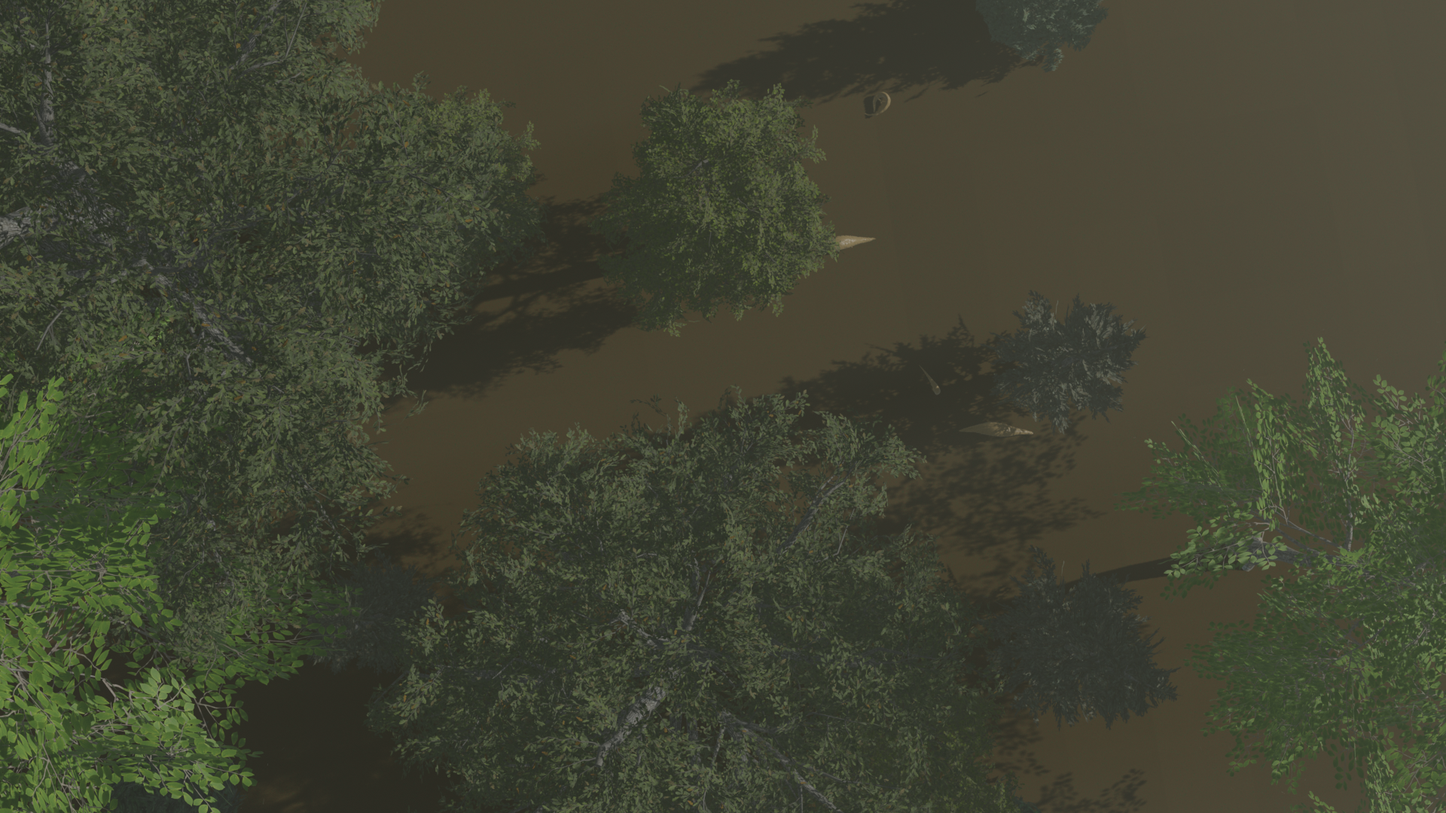pangolin: (772, 230, 877, 264), (956, 415, 1052, 447), (858, 90, 893, 118), (916, 363, 943, 397)
